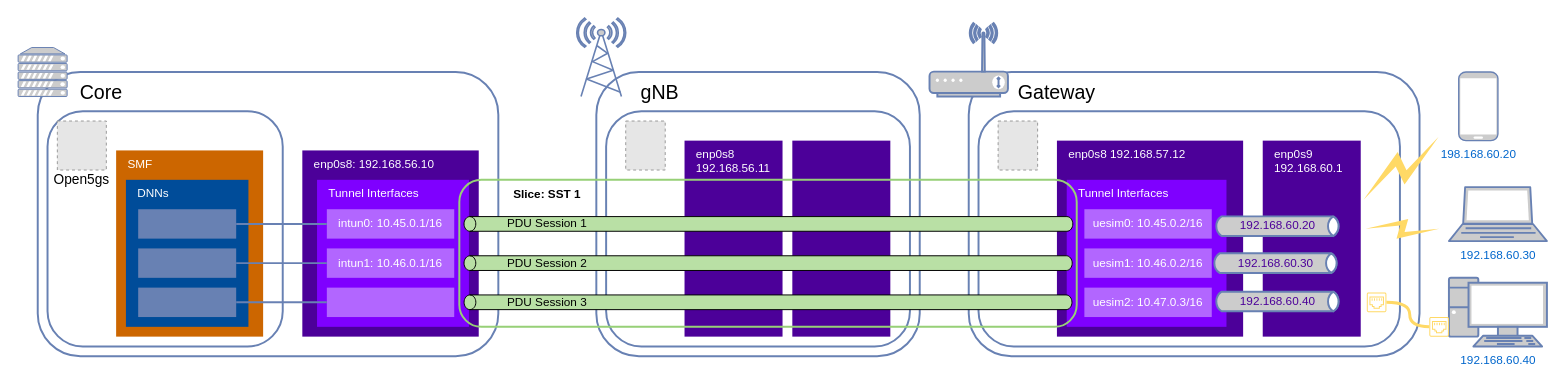
This 1564x383 diagram has some shape labels left out. Grey dashed boxes stand in for pictures. Each missing label, with the centre of its shape:
"DNN: internet0" goes at (187,223).
"DNN: internet1" goes at (187,262).
"DNN: internet2" goes at (187,302).
"enp0s9 192.168.57.11" goes at (841,238).
"intun2: 10.47.0.1/16" goes at (390,302).
